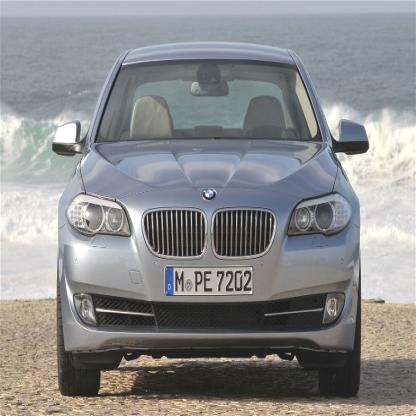Vehicle: (51, 40, 373, 396)
